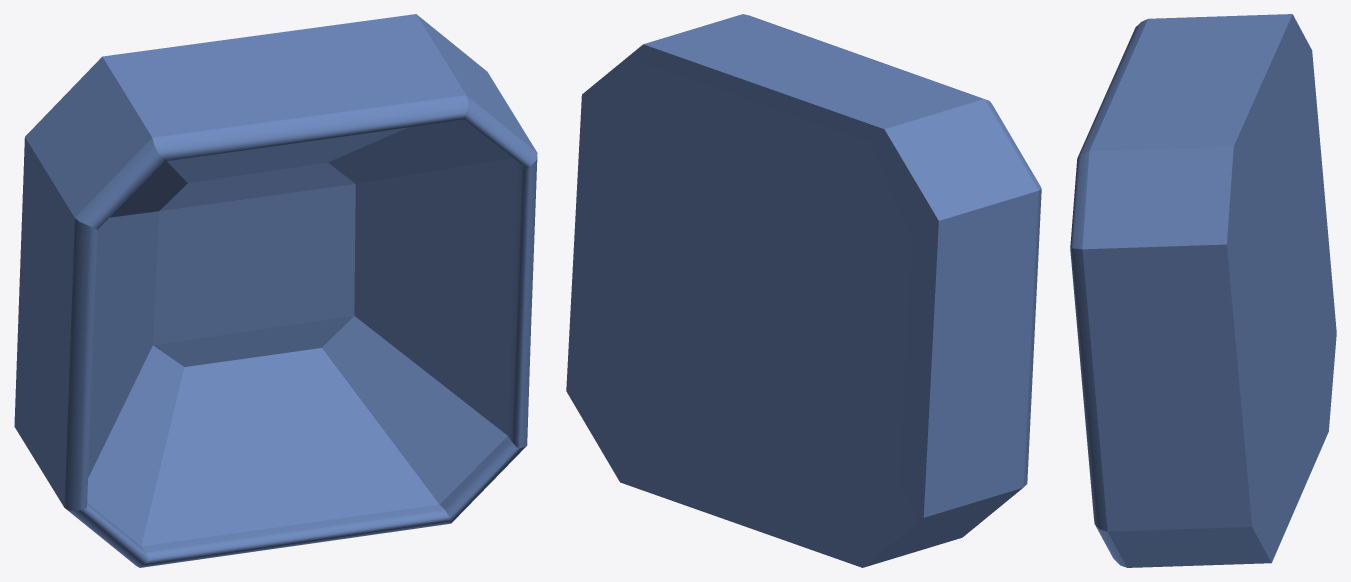
File: TL1_8shapes_Square_Classic_Metal.001 2.glb
The picture shows the model from 3 angles, left to right: view 1: azimuth 30°, elevation 25°; view 2: azimuth 150°, elevation 25°; view 3: azimuth 270°, elevation 25°; orthographic projection. The views are drawn at different scales.
Parts seen in each view (by area): view 1: TL1_8shapes_Square_Classic_Metal.001; view 2: TL1_8shapes_Square_Classic_Metal.001; view 3: TL1_8shapes_Square_Classic_Metal.001.
Boxes of the visible parts, x1=… form: TL1_8shapes_Square_Classic_Metal.001: x1=14, y1=14, x2=537, y2=567; TL1_8shapes_Square_Classic_Metal.001: x1=566, y1=14, x2=1041, y2=567; TL1_8shapes_Square_Classic_Metal.001: x1=1070, y1=14, x2=1336, y2=567.
Size of the model in its own units: 0.6081 by 0.6033 by 0.3349.
